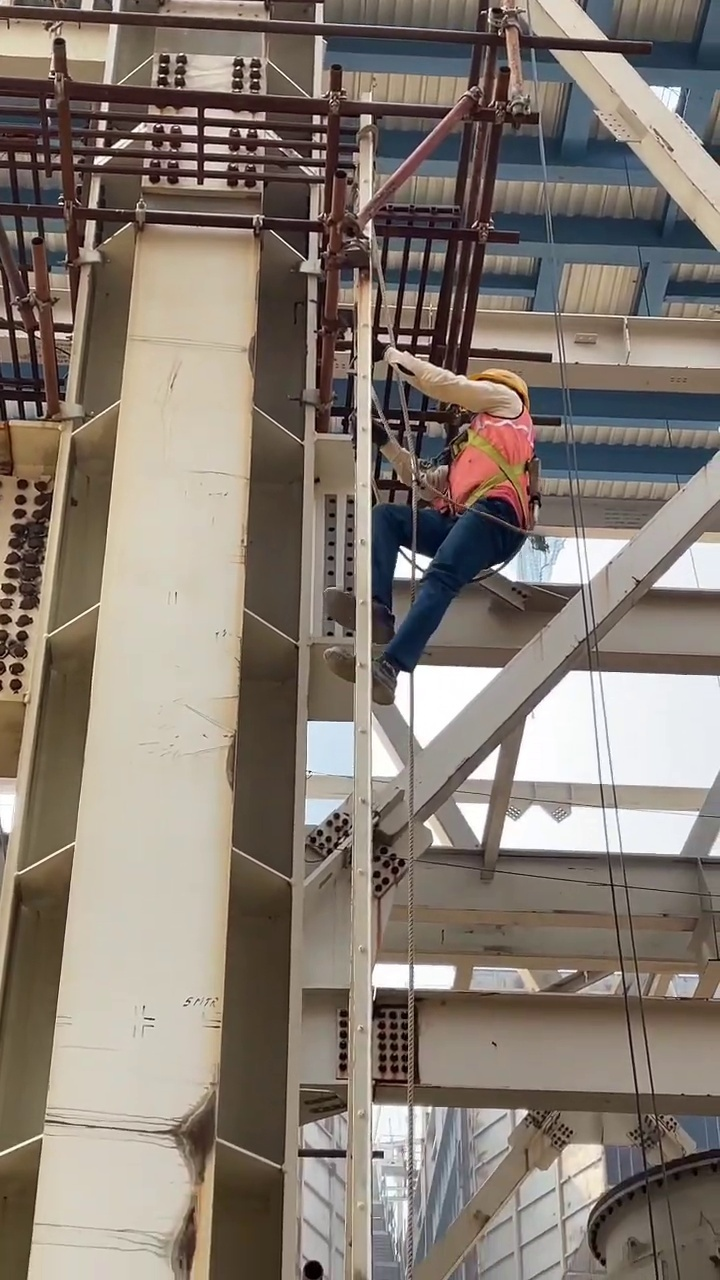Helmet: (480, 366, 527, 392)
Person: (320, 368, 541, 711)
Safety_Harness: (439, 405, 544, 537)
Safety_shoes: (322, 641, 400, 708), (325, 588, 400, 640)
